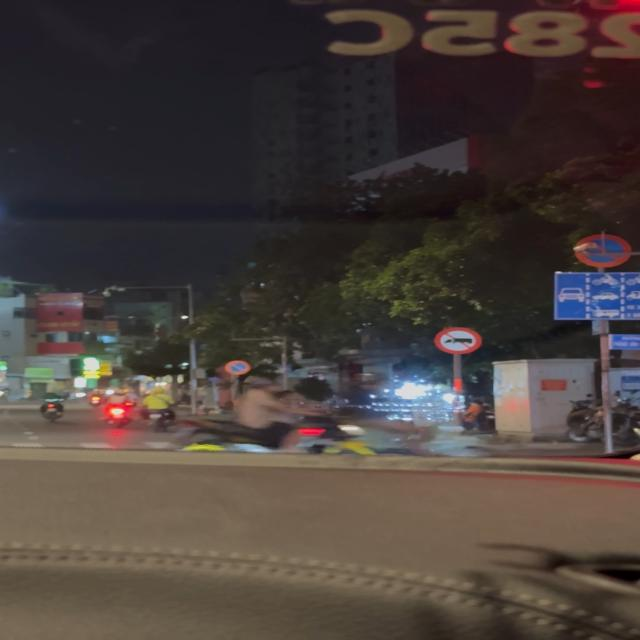Bien bao cam do xe: (225, 360, 251, 375)
Bien bao cam xe so-mi ro-mooc: (432, 324, 485, 356)
